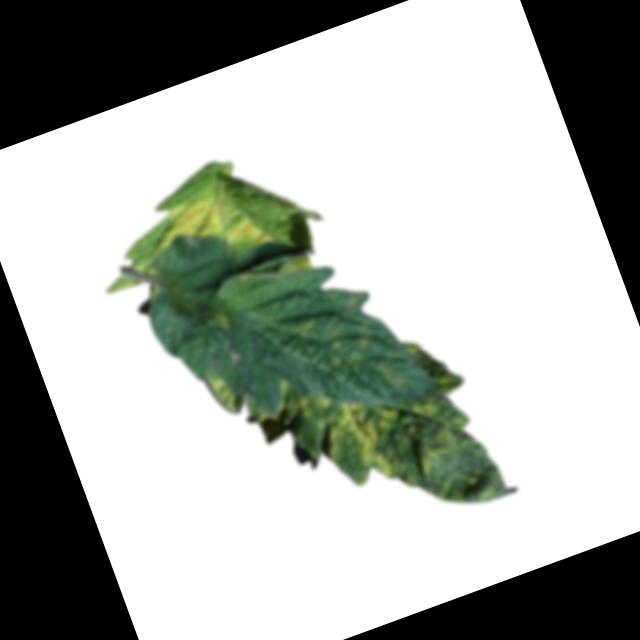Leaf_Mold: (255, 279, 408, 425), (141, 177, 274, 281), (313, 391, 400, 496)
